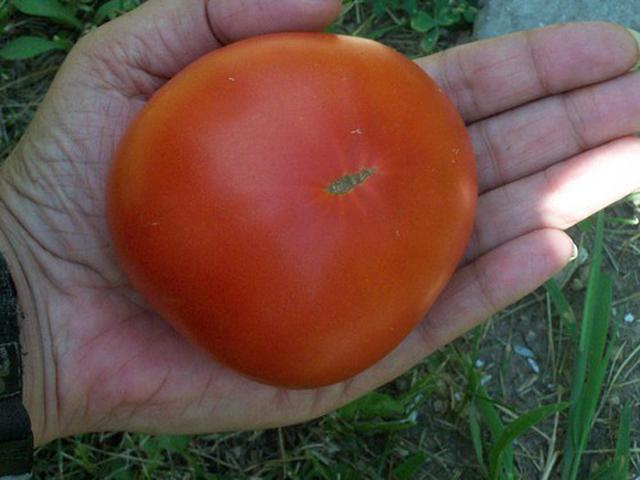tomato: (110, 32, 476, 389)
